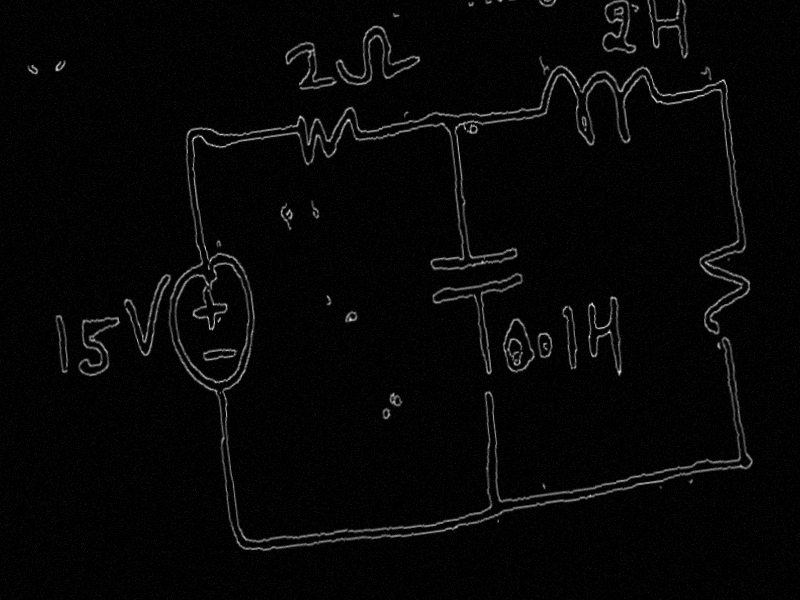-: (200, 339, 238, 367)
0: (534, 326, 556, 363)
1: (558, 301, 584, 377), (52, 309, 74, 377)
2: (282, 34, 338, 97), (595, 0, 640, 61), (498, 312, 539, 378)
5: (71, 308, 129, 383)
H: (580, 291, 629, 384)
V: (119, 270, 181, 363)
